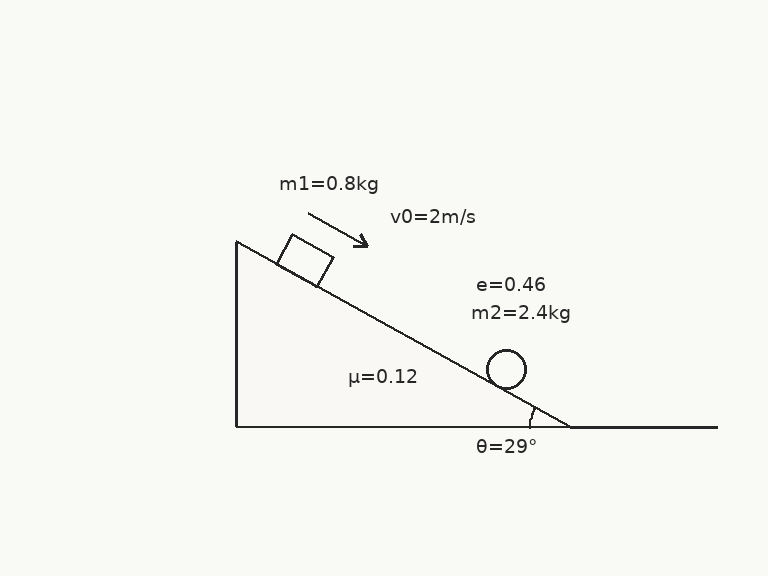ball: (484, 347, 528, 391)
block: (274, 232, 335, 288)
ramp: (234, 240, 572, 429)
